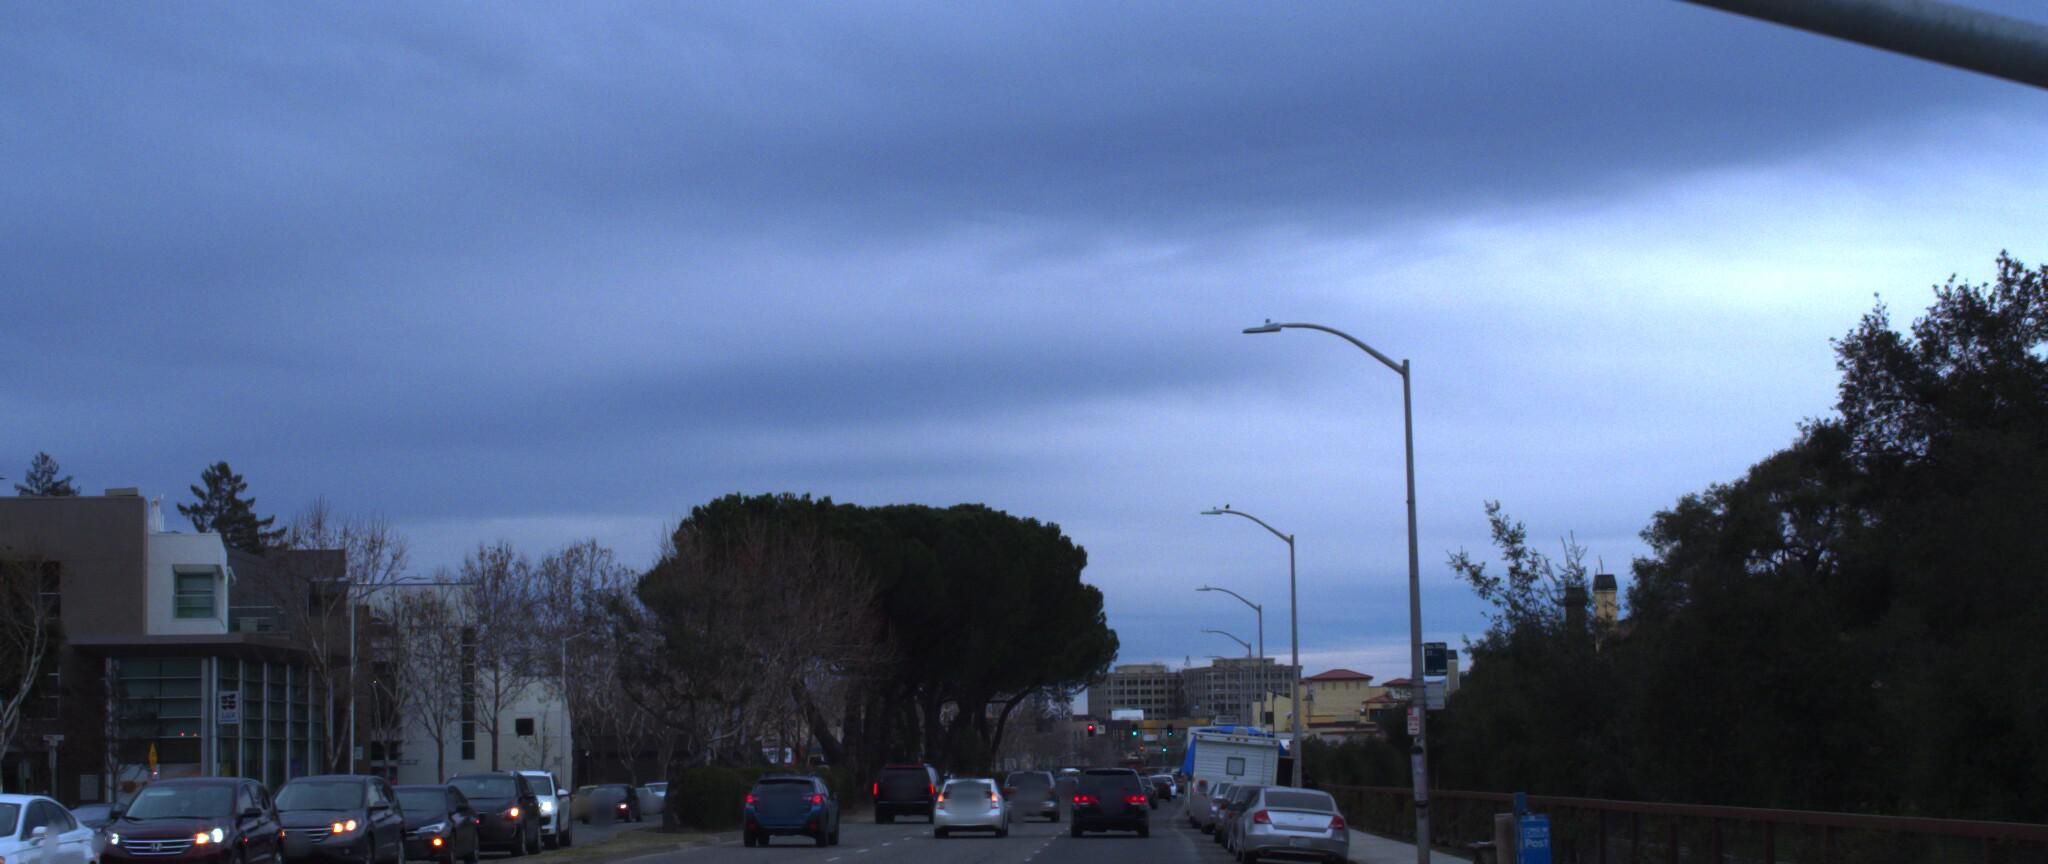car: (89, 761, 300, 864), (236, 760, 419, 864), (341, 770, 494, 863), (422, 754, 550, 850), (0, 778, 125, 864), (1225, 771, 1341, 859), (462, 754, 580, 841), (734, 760, 839, 838), (1064, 760, 1145, 831), (927, 762, 1014, 827)
